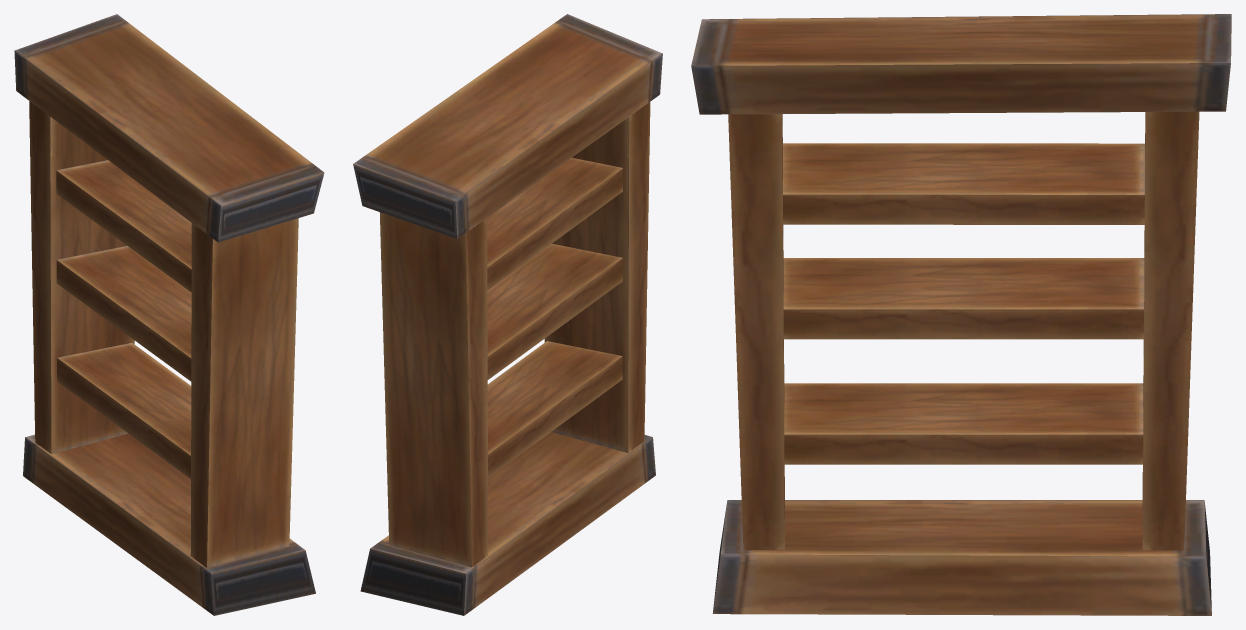
File: bookshelfdwarvensimple03.obj
3 renders of one model, left to right at view 1: azimuth 30°, elevation 25°; view 2: azimuth 150°, elevation 25°; view 3: azimuth 270°, elevation 25°, orthographic. The views are drawn at different scales.
Parts seen in each view (by area): view 1: BOOKSHELFDWARVENSIMPLE030; view 2: BOOKSHELFDWARVENSIMPLE030; view 3: BOOKSHELFDWARVENSIMPLE030.
Part boxes in pixels (x1,y1,x2,y2): BOOKSHELFDWARVENSIMPLE030: (14,14,324,615); BOOKSHELFDWARVENSIMPLE030: (353,14,662,615); BOOKSHELFDWARVENSIMPLE030: (691,14,1231,615).
Size of the model in its own units: 0.8642 by 3.48 by 3.08.
Materials: 1 (1 with a texture image).
